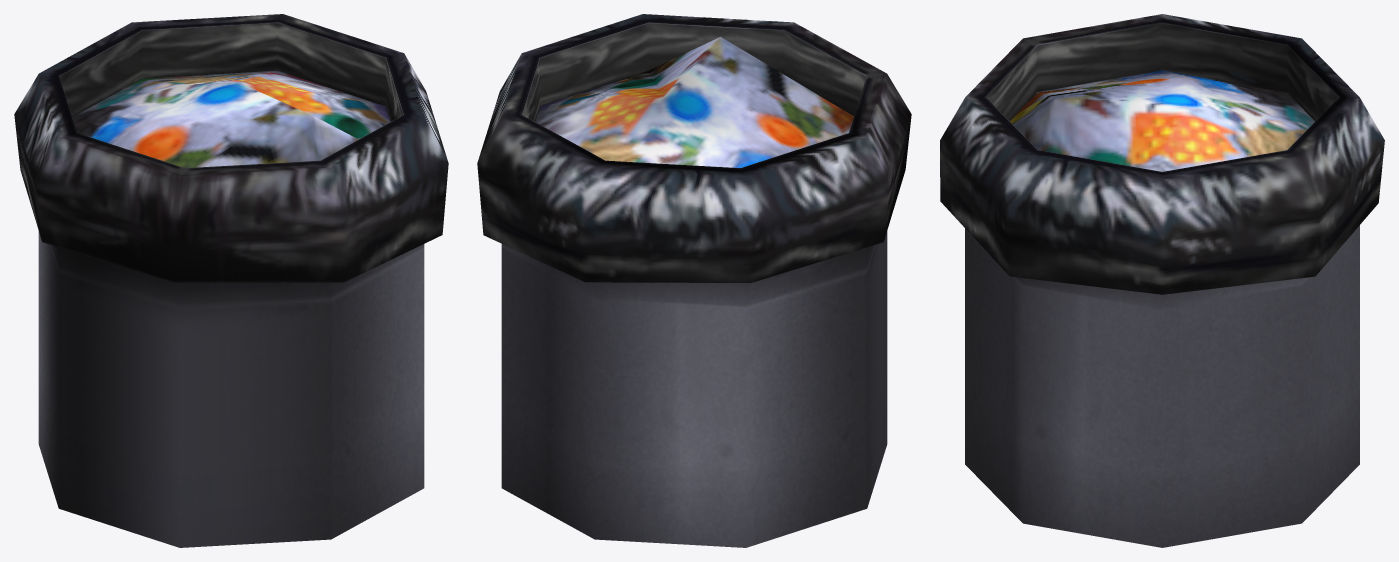
File: ShaShouJia_01_lajitong_01.FBX
The picture shows the model from 3 angles, left to right: view 1: azimuth 30°, elevation 25°; view 2: azimuth 150°, elevation 25°; view 3: azimuth 270°, elevation 25°; orthographic projection.
Visible parts, largest first — view 1: ShaShouJia_01_lajitong_01; view 2: ShaShouJia_01_lajitong_01; view 3: ShaShouJia_01_lajitong_01.
Boxes of the visible parts, x1,y1,x2,y2 form: ShaShouJia_01_lajitong_01: [14, 14, 448, 547]; ShaShouJia_01_lajitong_01: [477, 14, 911, 547]; ShaShouJia_01_lajitong_01: [940, 14, 1384, 547].
Size of the model in its own units: 264 by 249 by 264.
